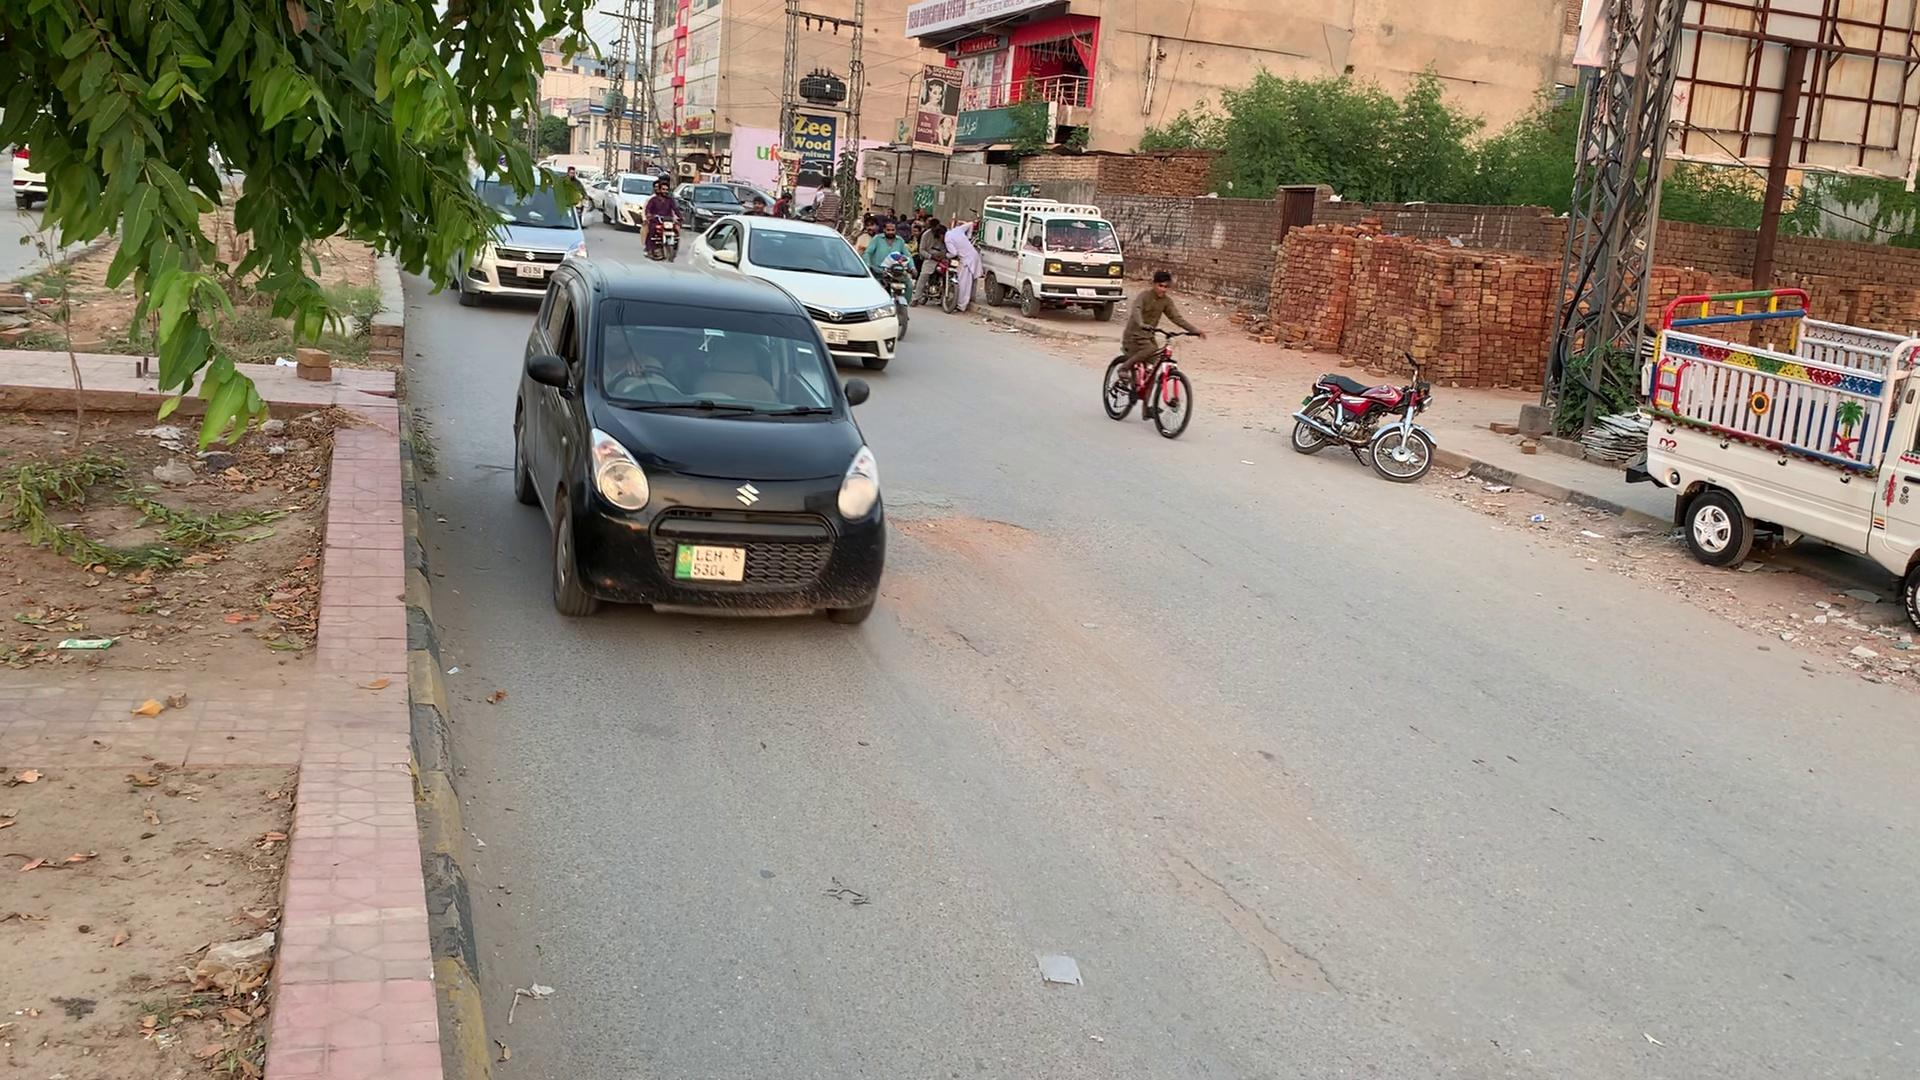windshield: (597, 284, 849, 417)
